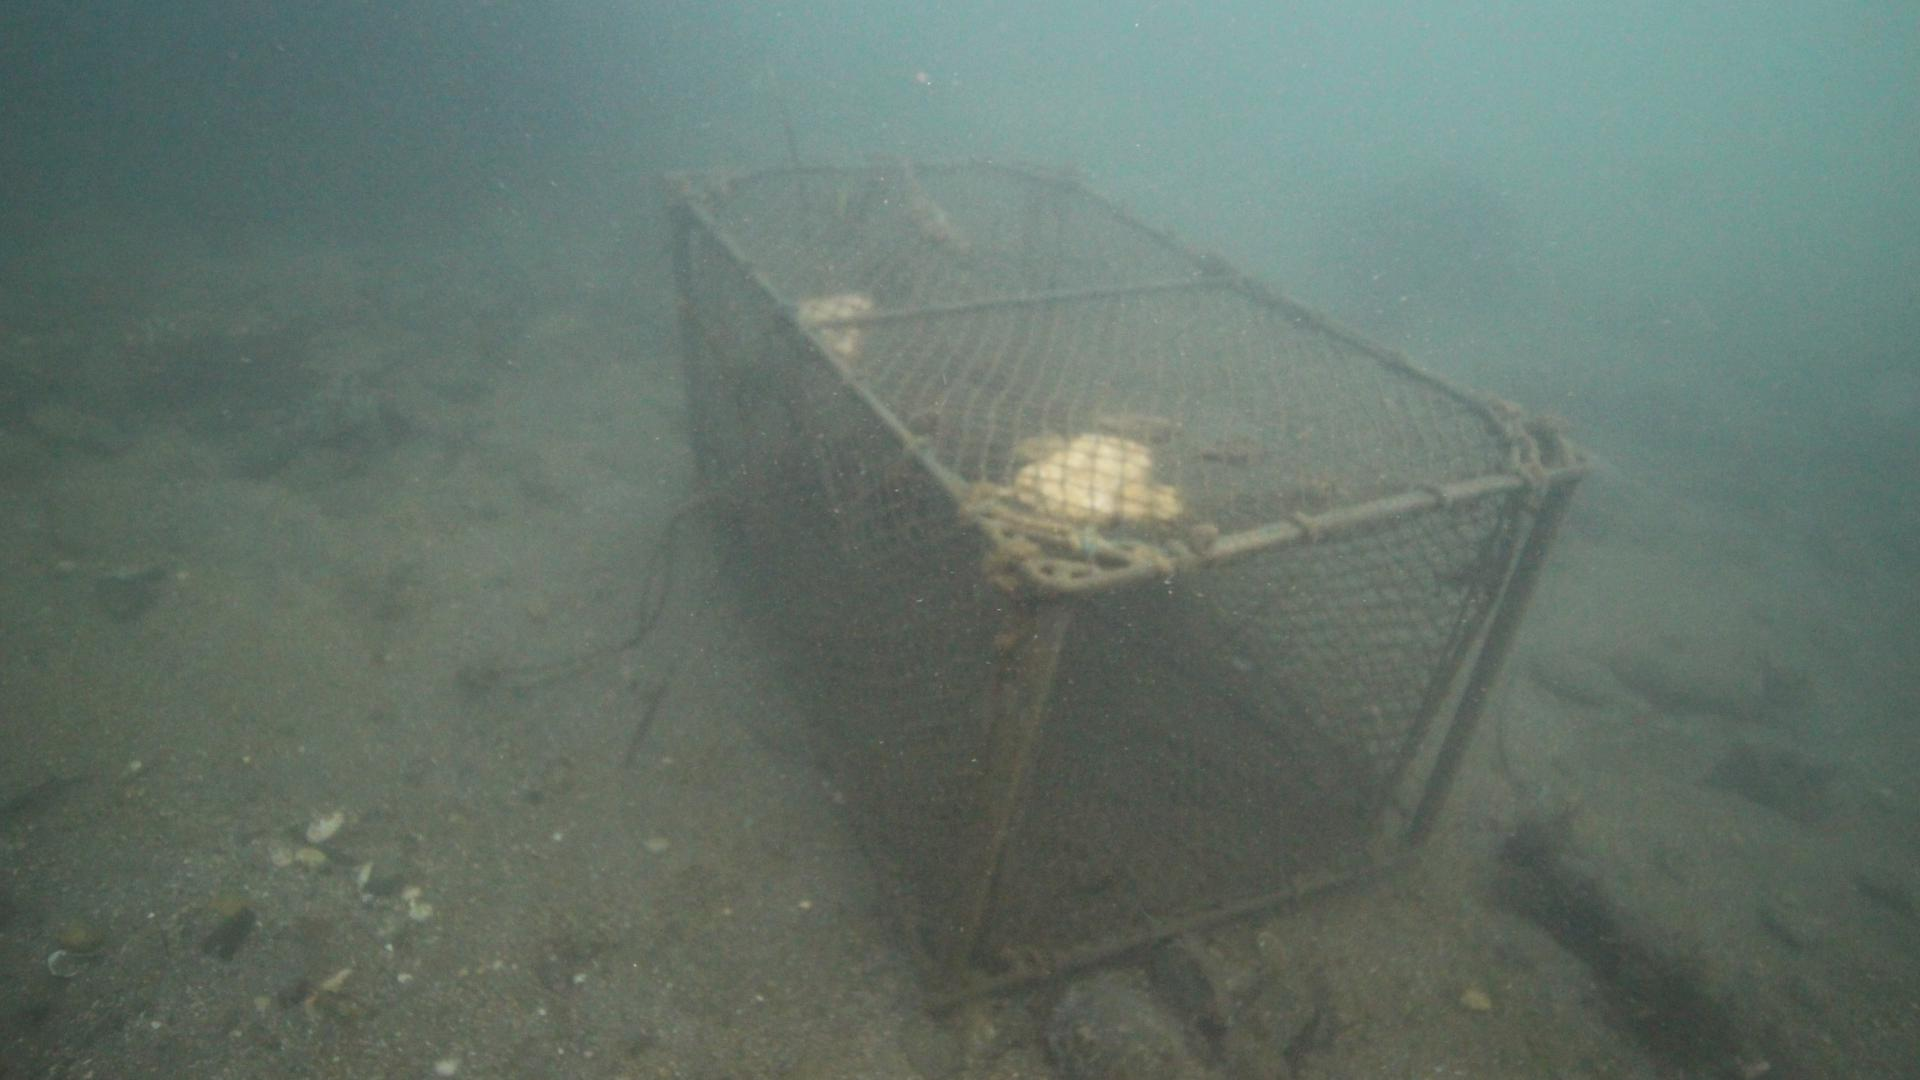rectangular fish trap: (665, 153, 1605, 1007)
